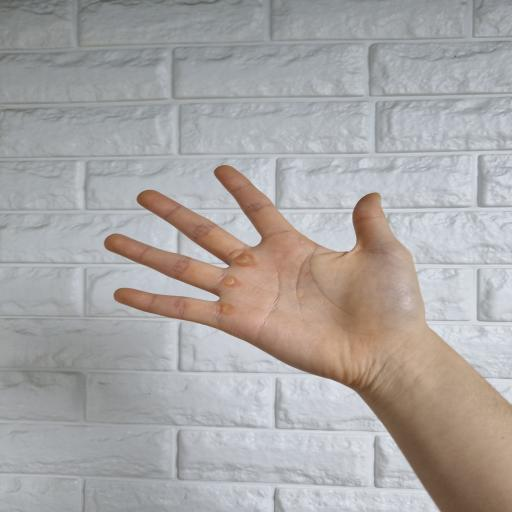Paper: (102, 166, 430, 396)
